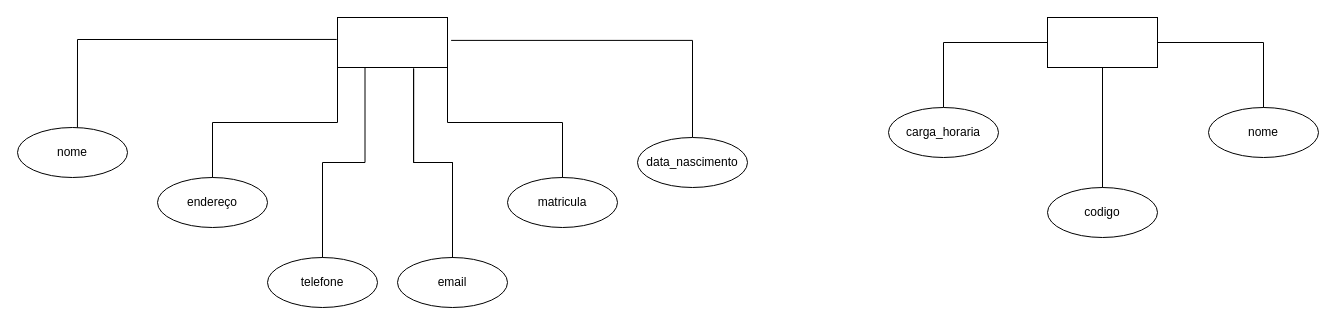
This 1336x325 diagram has some shape labels left out. Each missing label, with the centre of its shape:
ALUNO: pixel 392 42
CURSO: pixel 1102 42
